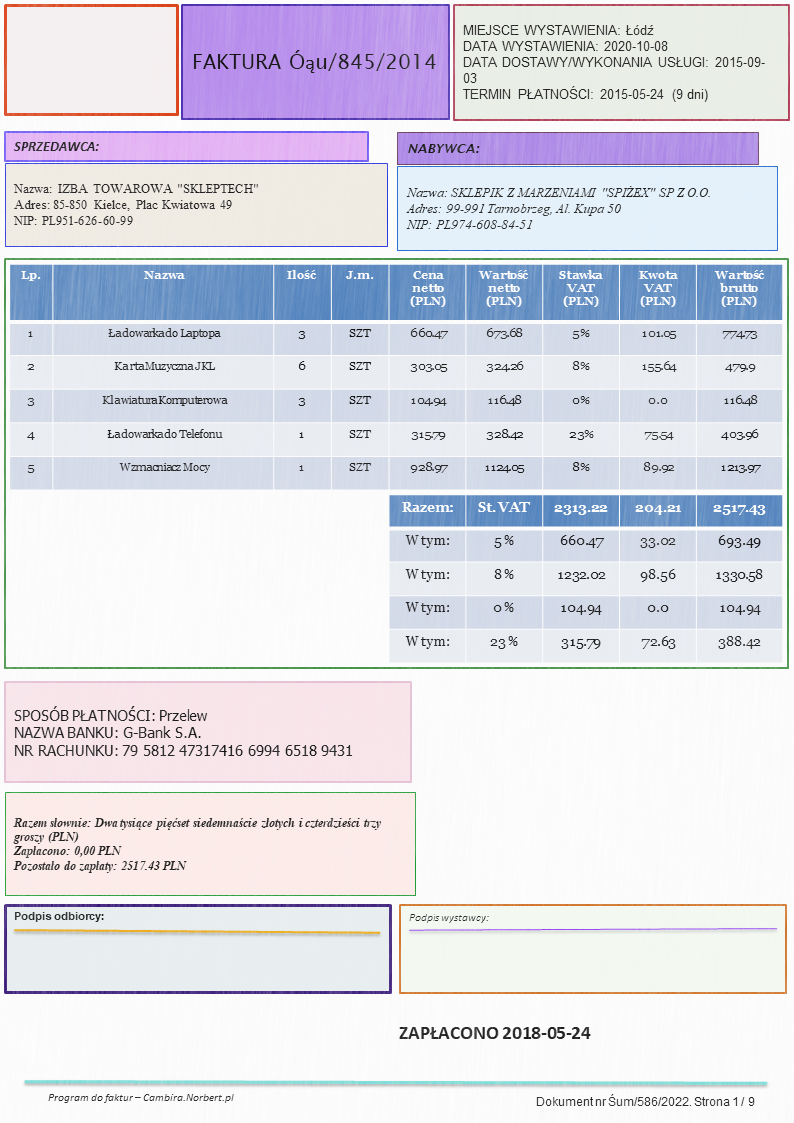Table: (8, 261, 781, 489), (388, 492, 784, 665)
TextBox: (459, 19, 768, 105), (10, 812, 385, 874), (11, 702, 357, 763), (404, 182, 713, 231), (10, 177, 261, 231), (189, 46, 438, 77), (397, 1021, 594, 1044), (532, 1091, 755, 1109), (45, 1089, 235, 1105), (11, 907, 108, 925), (406, 906, 489, 927), (12, 137, 101, 156), (403, 138, 482, 158)
